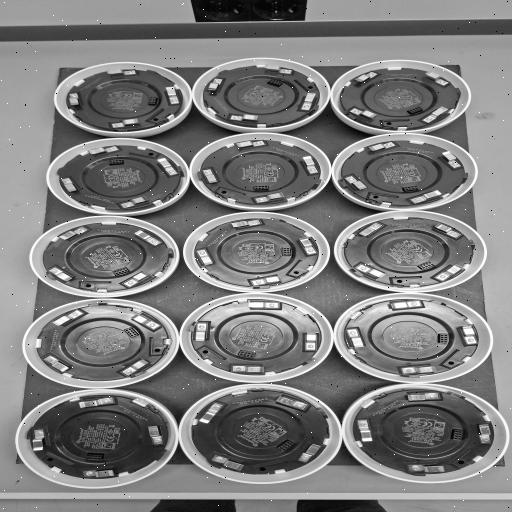konnektor: (276, 438, 295, 452), (448, 428, 466, 442), (418, 260, 438, 272), (235, 349, 260, 358), (123, 325, 139, 339), (84, 452, 106, 462), (278, 245, 292, 260), (264, 78, 286, 87), (434, 333, 451, 344), (400, 184, 423, 192), (112, 267, 130, 277), (107, 158, 125, 168), (406, 106, 424, 116), (147, 96, 160, 106), (253, 185, 270, 192)
yaysiz: (210, 453, 249, 472), (269, 394, 309, 411), (294, 441, 325, 462), (196, 402, 223, 426), (354, 417, 377, 444), (51, 309, 83, 328), (41, 355, 73, 373), (75, 396, 119, 409), (436, 262, 466, 281), (82, 466, 121, 480), (48, 266, 78, 284), (130, 312, 160, 330), (411, 188, 444, 204), (404, 461, 448, 473), (121, 358, 150, 376), (153, 156, 179, 176), (423, 105, 450, 124), (56, 226, 88, 242), (131, 230, 163, 246), (430, 223, 462, 239), (356, 264, 388, 280), (345, 327, 368, 349), (144, 422, 166, 445), (435, 150, 463, 168), (421, 70, 450, 87), (125, 270, 152, 288), (296, 154, 320, 174), (119, 194, 150, 209), (459, 324, 480, 346), (348, 107, 380, 121), (356, 222, 384, 238), (227, 218, 263, 230), (402, 363, 438, 375), (259, 63, 294, 75), (474, 422, 495, 442), (230, 139, 268, 150), (296, 236, 318, 255), (32, 428, 48, 454), (228, 364, 269, 374), (299, 91, 319, 111), (60, 178, 82, 196), (251, 274, 284, 286), (388, 299, 424, 310), (352, 70, 380, 84), (345, 175, 369, 191), (197, 248, 216, 268), (244, 300, 282, 310), (404, 392, 442, 402), (104, 68, 138, 79), (110, 118, 144, 129), (227, 113, 261, 124), (256, 191, 287, 203), (366, 141, 397, 153), (202, 168, 222, 186), (163, 85, 180, 106), (302, 331, 318, 353), (85, 146, 120, 156), (204, 77, 224, 94), (196, 322, 211, 342), (67, 91, 82, 109)
